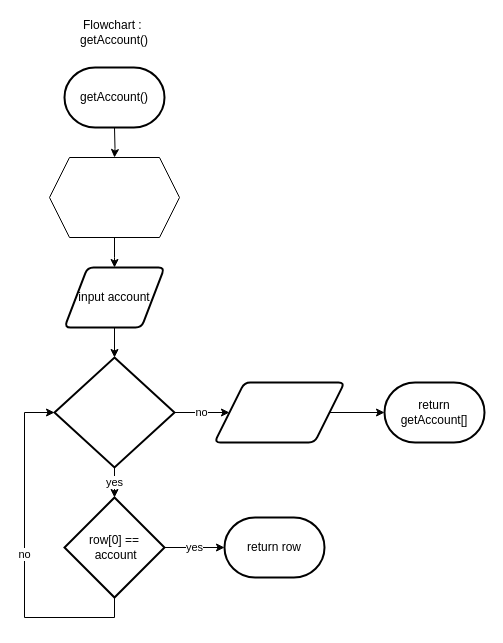
This 503x643 diagram has some shape labels left out. The centre of each missing label's shape, as x and y in pixels:
double account: point (114, 197)
double[] row in customerData: point (114, 412)
output "rekening tidak ditemukan: point (279, 412)
